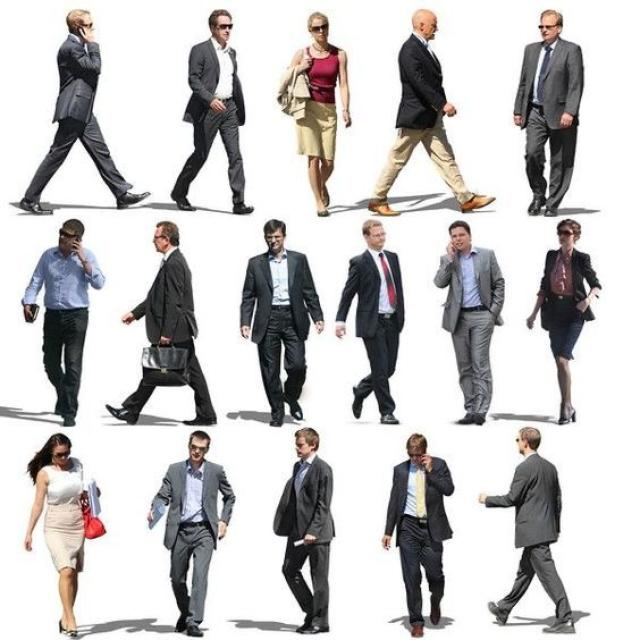person: (11, 8, 151, 213), (366, 8, 496, 216), (104, 220, 217, 426), (478, 426, 575, 633), (145, 430, 235, 637), (20, 218, 104, 427), (240, 219, 324, 427), (170, 8, 254, 214), (23, 432, 102, 637), (526, 218, 602, 424), (277, 11, 351, 217), (381, 432, 454, 637), (433, 220, 505, 425), (512, 9, 583, 216), (334, 219, 405, 424), (272, 427, 335, 633)
